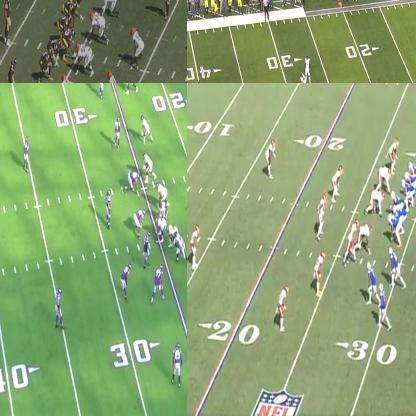CENTER: (154, 216, 166, 243), (62, 29, 74, 54), (390, 192, 403, 212)
DB: (53, 285, 66, 328), (276, 284, 288, 330), (191, 226, 201, 270), (266, 141, 276, 175), (173, 344, 181, 385), (316, 253, 324, 294), (388, 142, 398, 167), (114, 118, 122, 144), (24, 138, 30, 172), (164, 0, 173, 20), (304, 54, 310, 79), (96, 83, 106, 97)
LB: (131, 26, 144, 69), (347, 220, 358, 263), (318, 196, 327, 241), (120, 262, 130, 300), (333, 168, 343, 202), (106, 191, 113, 228), (109, 69, 122, 82), (299, 69, 306, 82)
QB: (5, 0, 14, 49)
SKILL: (142, 151, 158, 180), (368, 262, 378, 302), (390, 247, 400, 286), (141, 117, 154, 145), (380, 284, 388, 325), (8, 58, 17, 82), (121, 83, 139, 94), (408, 161, 415, 183)
